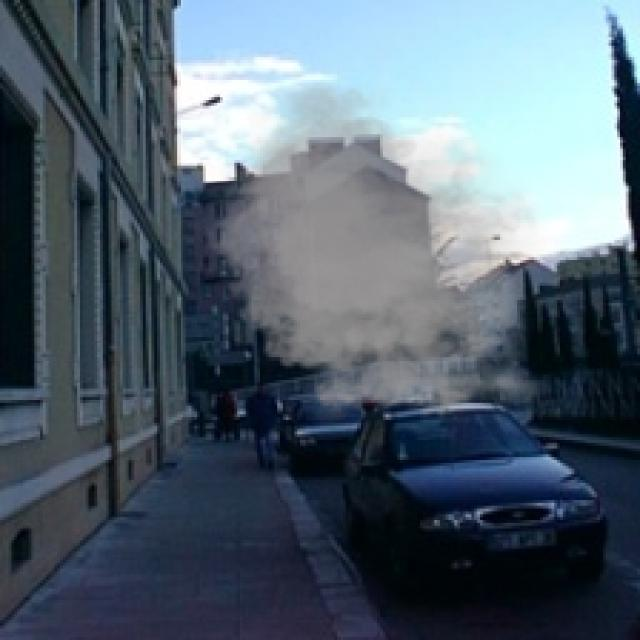Smoke: (194, 72, 557, 434)
